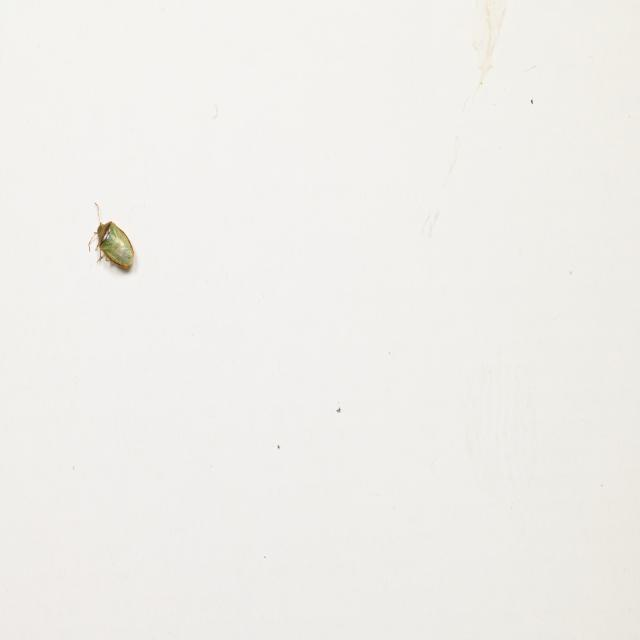stinkbug: (87, 202, 134, 276)
